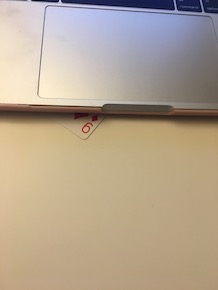NineOfDiamonds: (38, 106, 110, 141)
